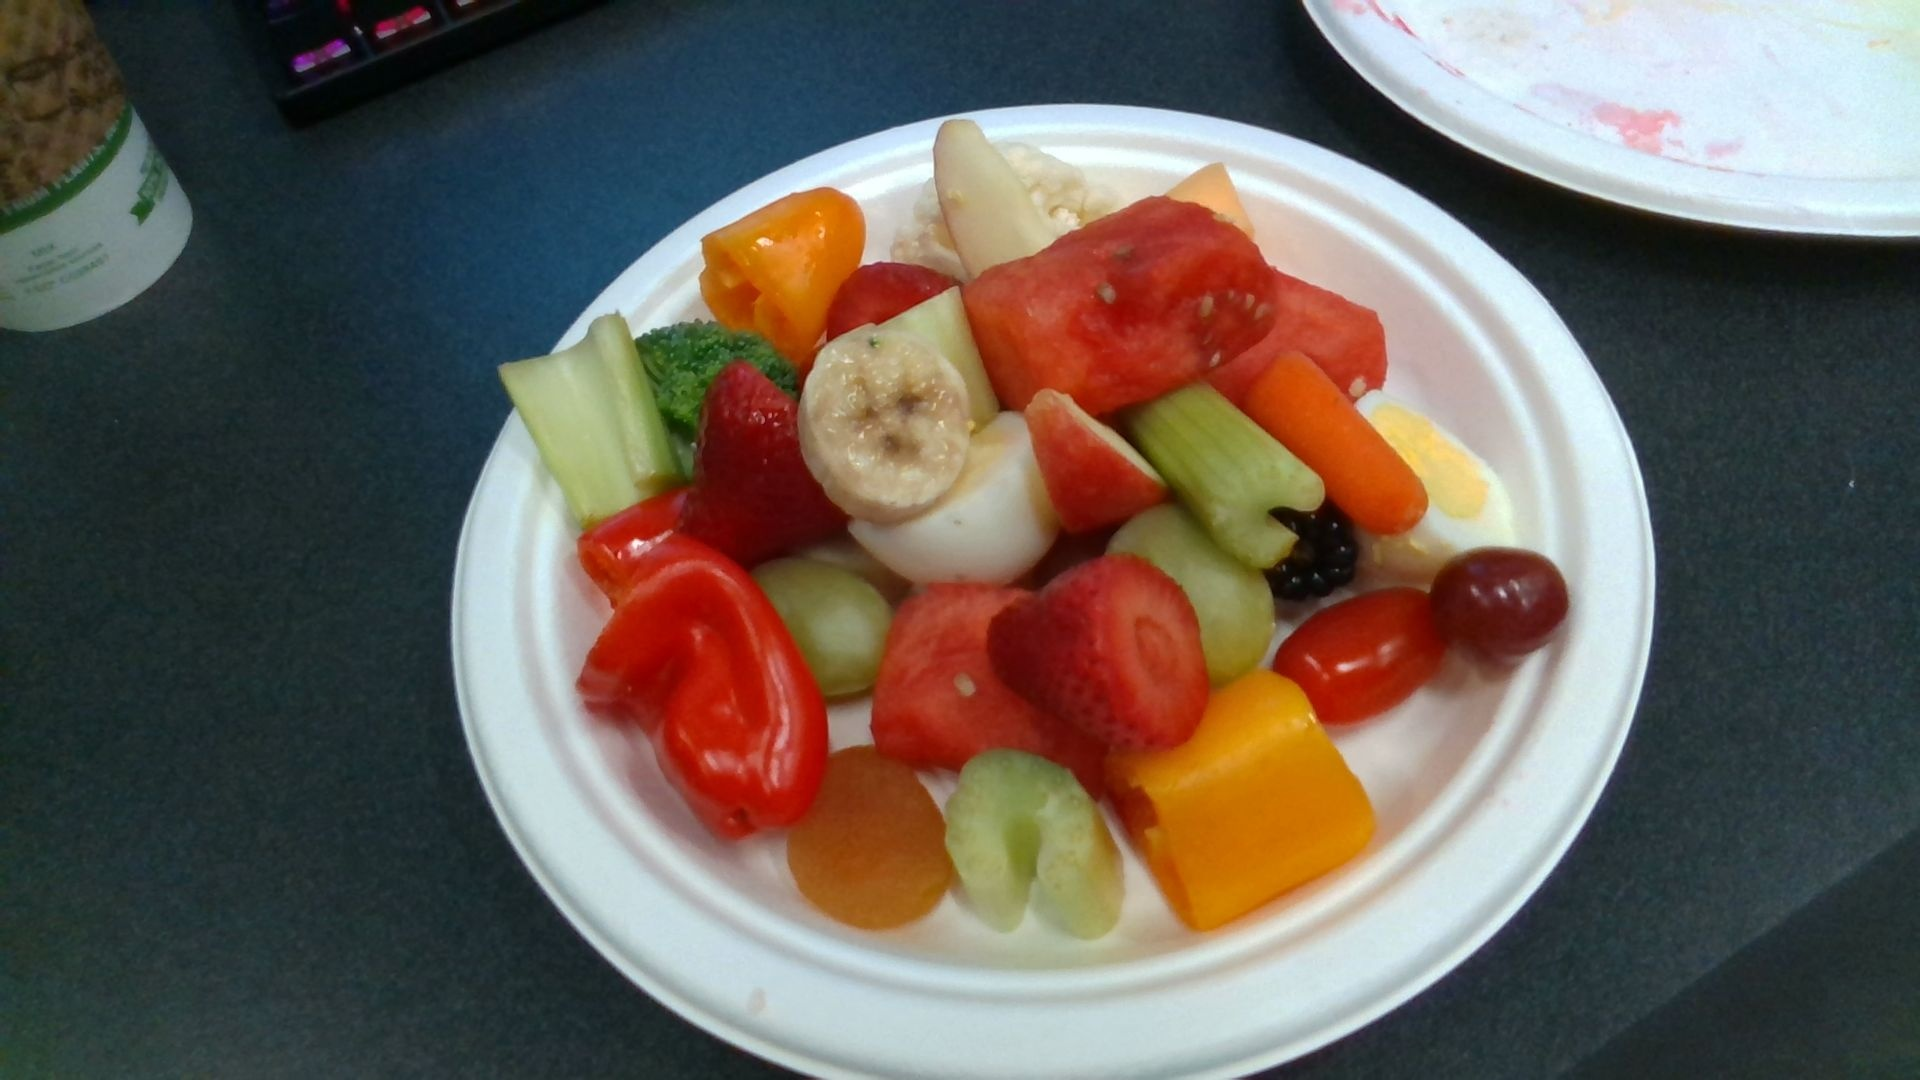apple: (1025, 390, 1170, 535), (932, 116, 1054, 270)
apricot: (790, 748, 945, 923)
banana: (799, 328, 969, 516)
bell_pepper: (575, 535, 827, 837), (1125, 675, 1374, 930), (699, 189, 860, 356)
broccoli: (636, 328, 800, 480)
carrot: (1249, 351, 1427, 535)
celery: (497, 313, 674, 524), (1130, 382, 1324, 570), (947, 752, 1122, 934)
cherry_tomato: (1275, 589, 1451, 723)
egg: (849, 413, 1055, 585), (1345, 401, 1515, 571)
grape_green: (1105, 505, 1275, 678), (750, 549, 894, 695)
grape_purple: (1429, 550, 1569, 645)
melon: (967, 200, 1273, 411), (865, 589, 1095, 765)
strawberry: (989, 556, 1209, 745), (688, 360, 849, 560)
